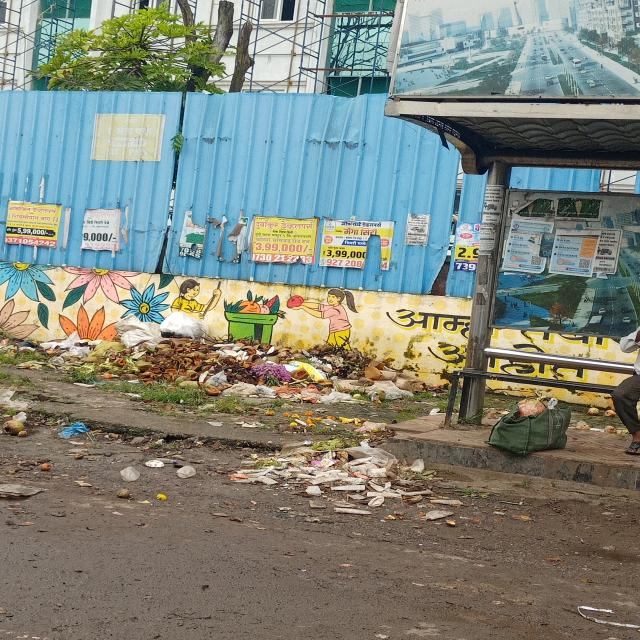garbage: (12, 325, 417, 504)
